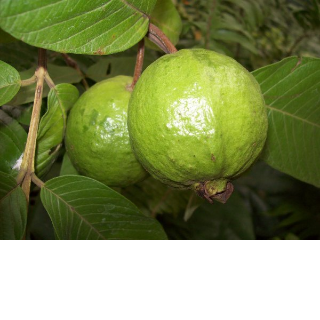oi: (126, 48, 270, 194), (63, 70, 164, 188)
